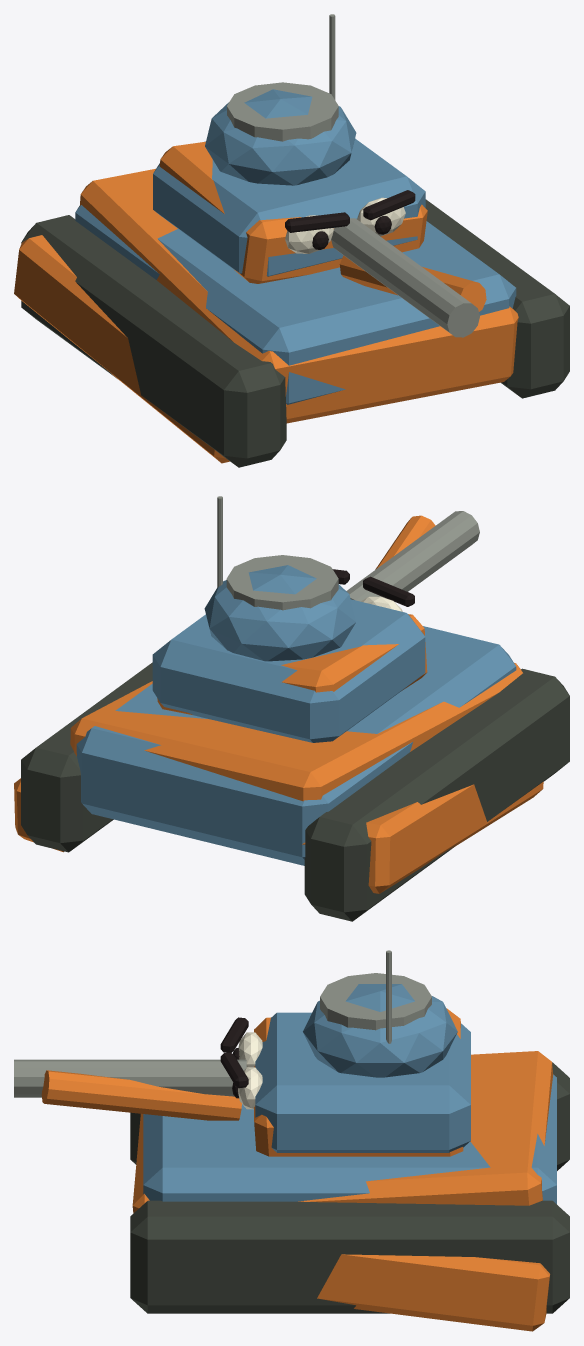
The model's file is SillyEnemyScout.fbx.
3 renders of one model, top to bottom at view 1: azimuth 30°, elevation 25°; view 2: azimuth 150°, elevation 25°; view 3: azimuth 270°, elevation 25°, orthographic.
Visible parts, largest first — view 1: LeftTrack, Hull, Hull_Damaged, Turret, CommanderHelmet, LeftTrack_Damaged, RightTrack, Barrel, Turret_Damaged, Hatch, Barrel_Damaged, LeftBrow (+4 smaller); view 2: Hull, LeftTrack, Turret, Hull_Damaged, CommanderHelmet, RightTrack, LeftTrack_Damaged, Barrel, Hatch, Turret_Damaged, Barrel_Damaged, LeftBrow (+1 smaller); view 3: RightTrack, Turret, Hull, Hull_Damaged, RightTrack_Damaged, CommanderHelmet, Barrel_Damaged, Barrel, Hatch, Turret_Damaged, LeftTrack, RightEye (+4 smaller).
Boxes of the visible parts, left/top/right/bottom form: LeftTrack: left=21, top=215, right=286, bottom=467; Hull: left=75, top=205, right=516, bottom=404; Hull_Damaged: left=80, top=168, right=518, bottom=423; Turret: left=153, top=138, right=425, bottom=276; CommanderHelmet: left=205, top=89, right=356, bottom=185; LeftTrack_Damaged: left=14, top=235, right=229, bottom=463; RightTrack: left=425, top=199, right=569, bottom=398; Barrel: left=331, top=218, right=479, bottom=337; Turret_Damaged: left=159, top=141, right=427, bottom=283; Hatch: left=227, top=82, right=338, bottom=141; Barrel_Damaged: left=339, top=255, right=486, bottom=311; LeftBrow: left=285, top=212, right=349, bottom=232; Hull: left=76, top=626, right=516, bottom=865; LeftTrack: left=304, top=668, right=569, bottom=921; Turret: left=152, top=599, right=425, bottom=742; Hull_Damaged: left=70, top=663, right=522, bottom=844; CommanderHelmet: left=204, top=565, right=355, bottom=661; RightTrack: left=21, top=662, right=152, bottom=852; LeftTrack_Damaged: left=366, top=781, right=543, bottom=893; Barrel: left=346, top=511, right=479, bottom=601; Hatch: left=226, top=555, right=338, bottom=610; Turret_Damaged: left=157, top=614, right=427, bottom=714; Barrel_Damaged: left=375, top=515, right=435, bottom=569; LeftBrow: left=363, top=576, right=414, bottom=606; RightTrack: left=130, top=1200, right=569, bottom=1313; Turret: left=255, top=1012, right=470, bottom=1152; Hull: left=143, top=1074, right=556, bottom=1204; Hull_Damaged: left=132, top=1051, right=553, bottom=1213; RightTrack_Damaged: left=317, top=1254, right=550, bottom=1331; CommanderHelmet: left=303, top=984, right=457, bottom=1077; Barrel_Damaged: left=41, top=1070, right=241, bottom=1120; Barrel: left=14, top=1059, right=246, bottom=1097; Hatch: left=320, top=973, right=431, bottom=1030; Turret_Damaged: left=254, top=1008, right=463, bottom=1156; LeftTrack: left=130, top=1062, right=569, bottom=1170; RightEye: left=238, top=1067, right=262, bottom=1109.
Bounding box in the file's own units: 4.04 × 3.32 × 5.16.
